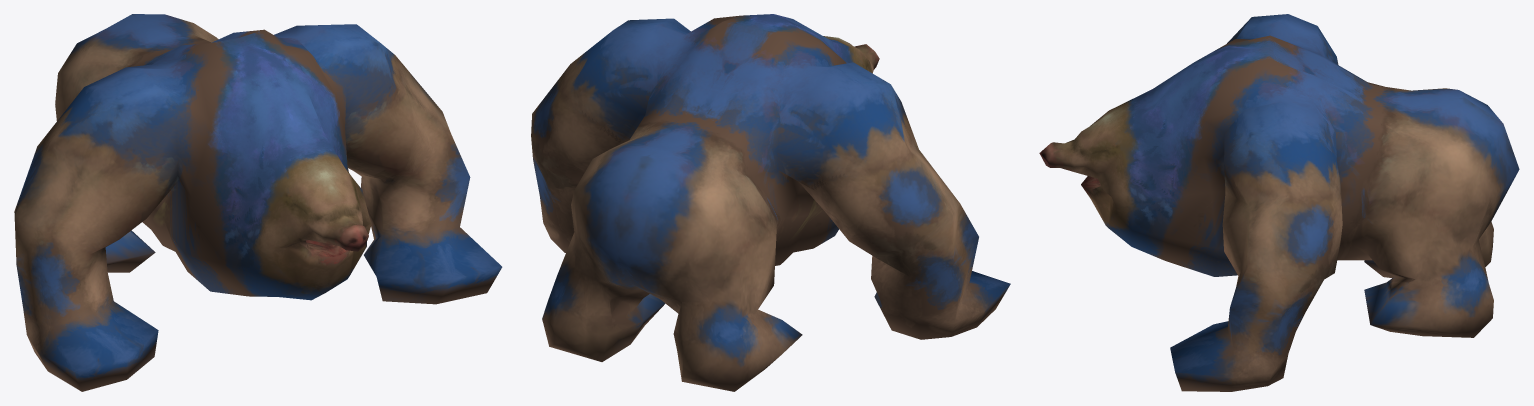
Rendered from molebear.fbx.
The picture shows the model from 3 angles, left to right: view 1: azimuth 30°, elevation 25°; view 2: azimuth 150°, elevation 25°; view 3: azimuth 270°, elevation 25°; orthographic projection. The views are drawn at different scales.
Parts seen in each view (by area): view 1: molebear_gear_low; view 2: molebear_gear_low; view 3: molebear_gear_low.
Boxes of the visible parts, x1,y1,x2,y2 form: molebear_gear_low: (14,14,502,391); molebear_gear_low: (531,14,1010,391); molebear_gear_low: (1039,14,1519,391).
Size of the model in its own units: 192 by 115 by 197.
